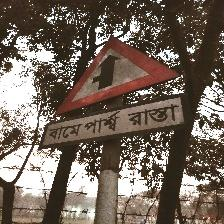Side-road-left: (42, 36, 188, 150)
